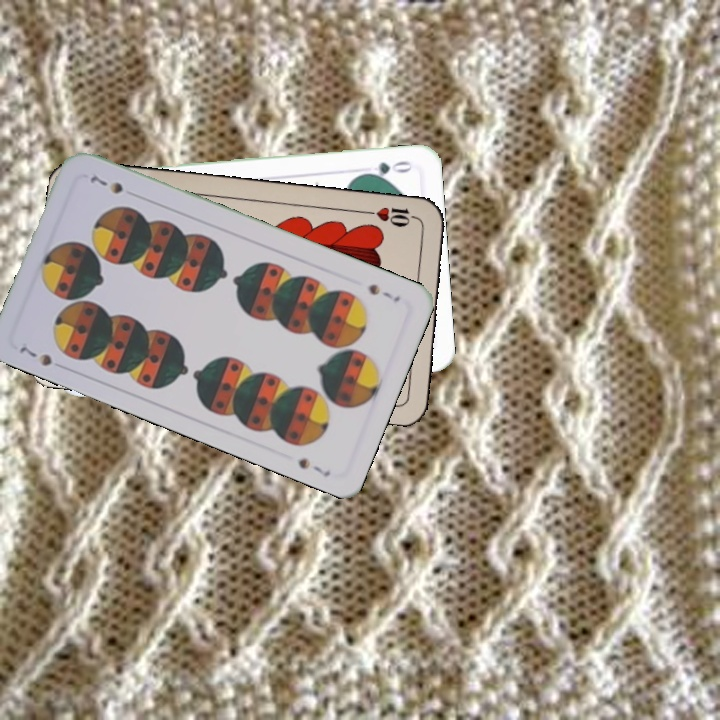GO: (357, 157, 415, 181)
H10: (362, 203, 421, 230)
S7: (15, 338, 55, 369), (364, 280, 403, 305)
